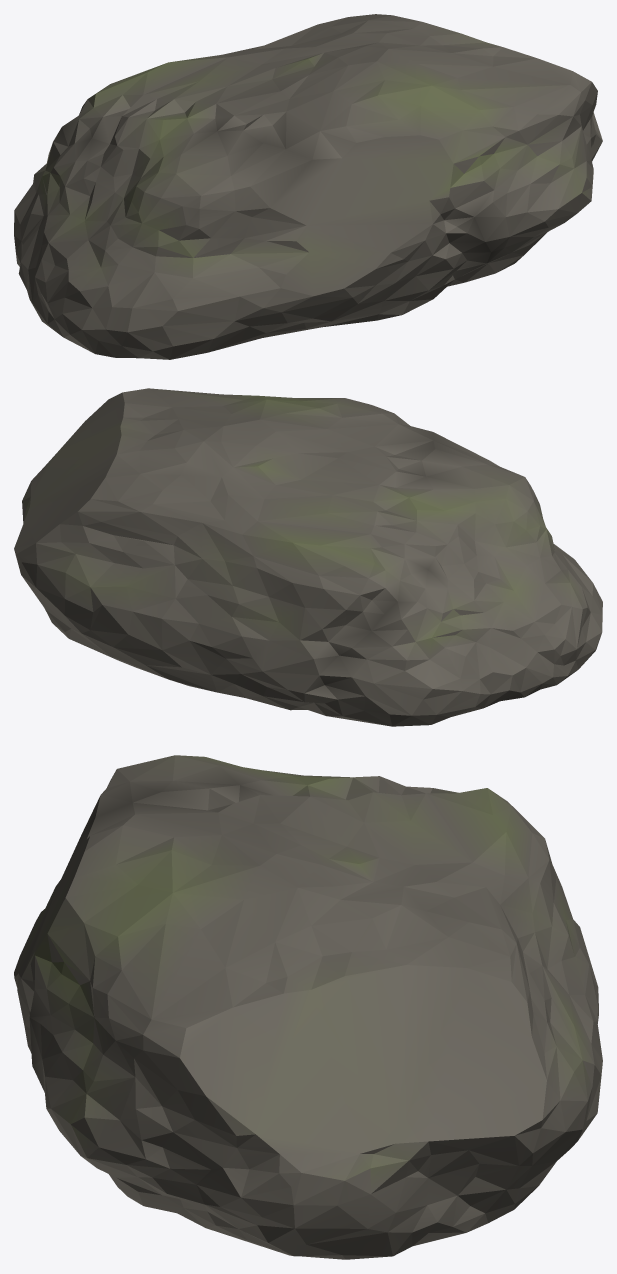
Rendered from stone_C.glb.
3 renders of one model, top to bottom at view 1: azimuth 30°, elevation 25°; view 2: azimuth 150°, elevation 25°; view 3: azimuth 270°, elevation 25°, orthographic. The views are drawn at different scales.
Parts seen in each view (by area): view 1: stone_C; view 2: stone_C; view 3: stone_C.
Part boxes in pixels (x1,y1,x2,y2): stone_C: [14, 14, 602, 359]; stone_C: [14, 388, 602, 726]; stone_C: [14, 755, 602, 1259].
Size of the model in its own units: 0.3702 by 0.1206 by 0.2396.
